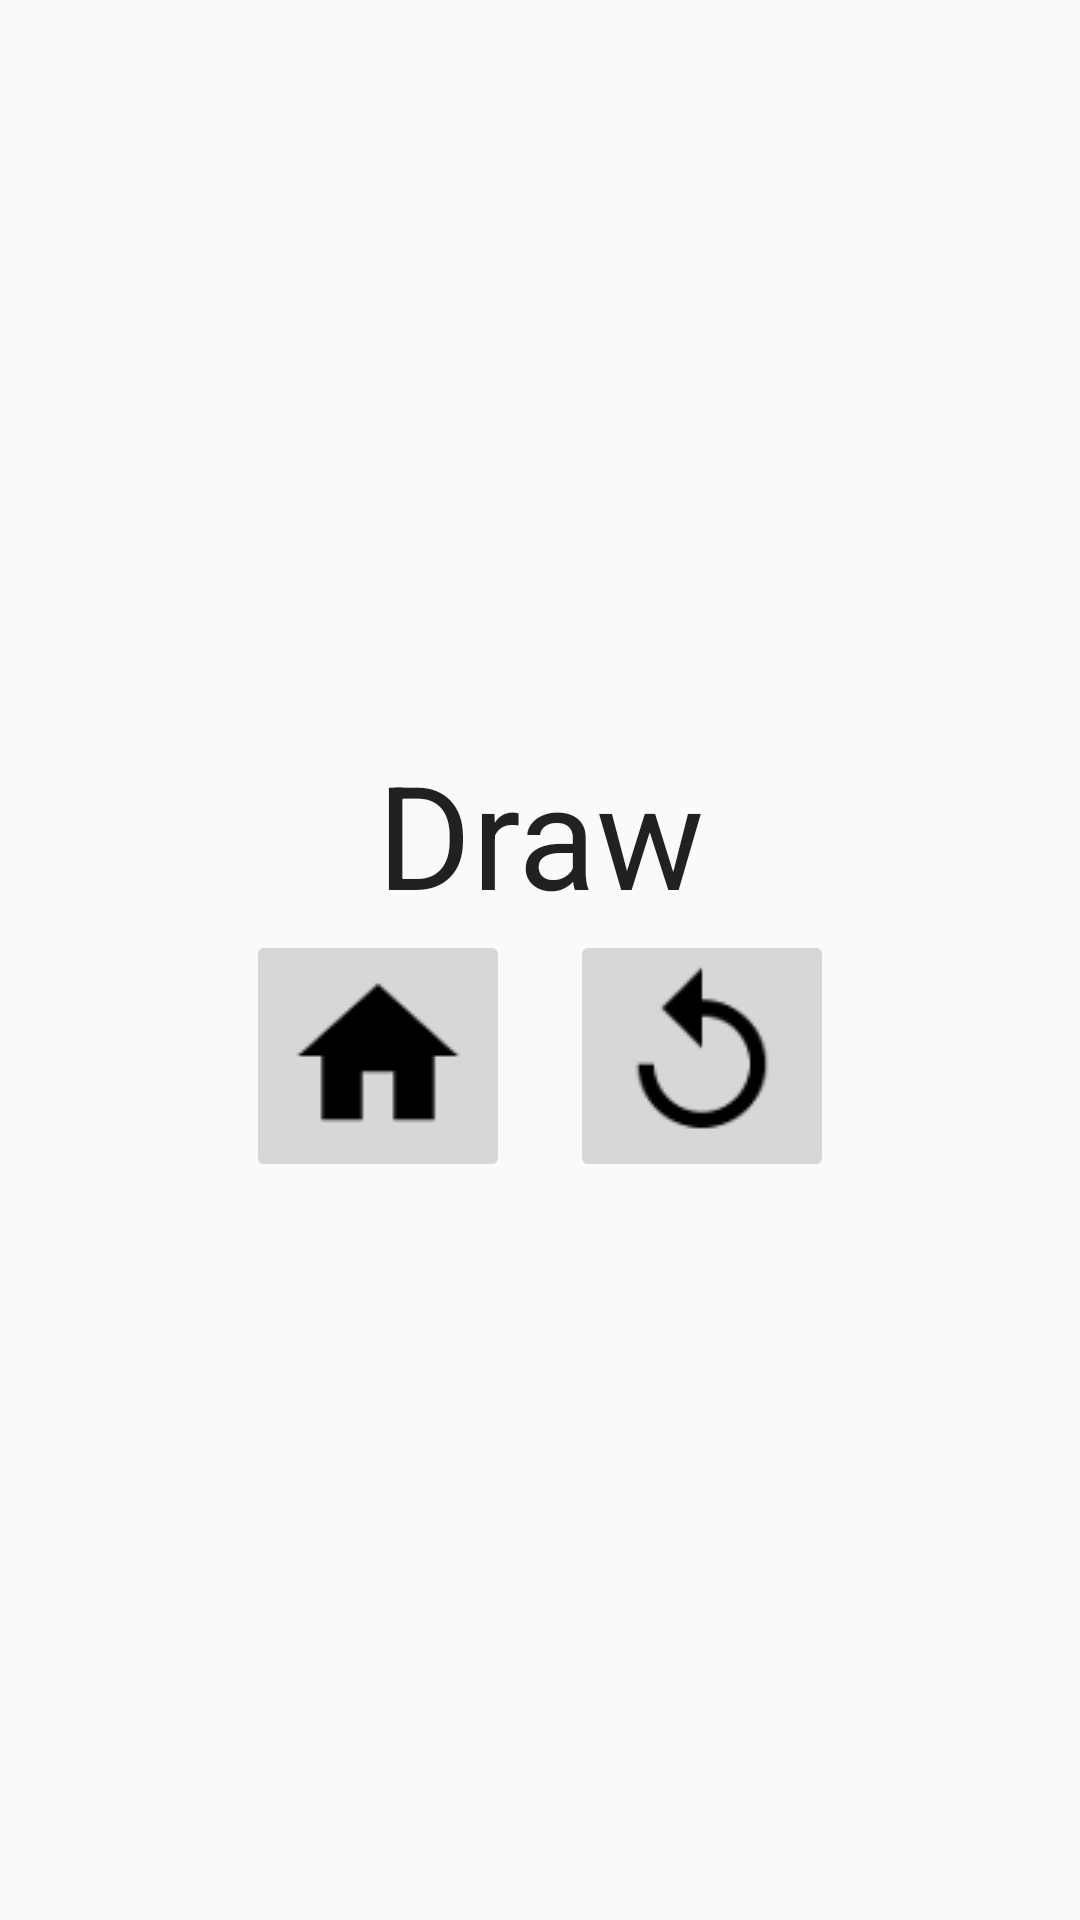

Icons on this 1080px x 1920px Android screen, each with its box as (x1, y1, x2, y2):
home: (258, 948, 498, 1164)
replay: (582, 948, 822, 1164)
